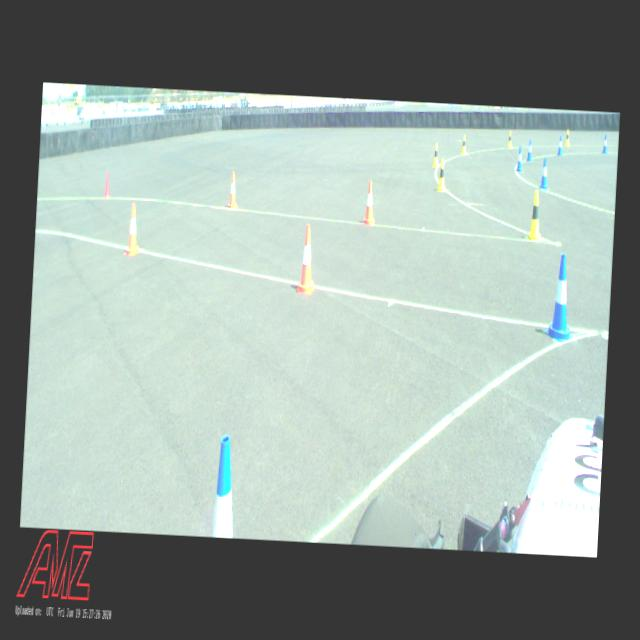blue_cone: (210, 434, 240, 537), (546, 254, 578, 342), (540, 158, 550, 190), (516, 145, 522, 173), (602, 134, 609, 154), (558, 135, 564, 156), (527, 138, 532, 162)
orange_cone: (296, 224, 318, 294), (124, 203, 142, 257), (363, 180, 376, 226), (227, 173, 239, 209)
unknown_cone: (102, 170, 111, 198)
yellow_cone: (526, 190, 544, 241), (437, 159, 448, 191), (432, 142, 440, 168), (461, 135, 468, 155), (508, 130, 512, 148), (566, 128, 570, 146)
